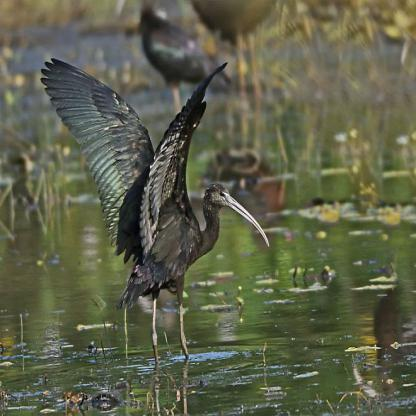Burung: (39, 60, 270, 366)
